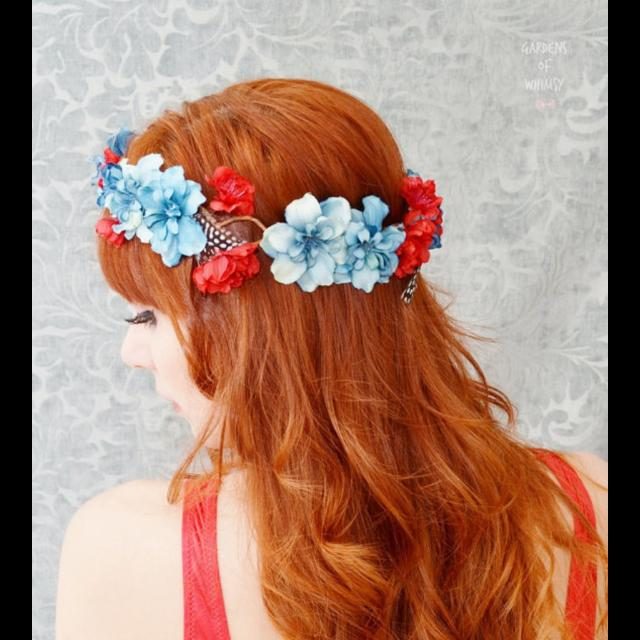Flower: (91, 127, 442, 296)
